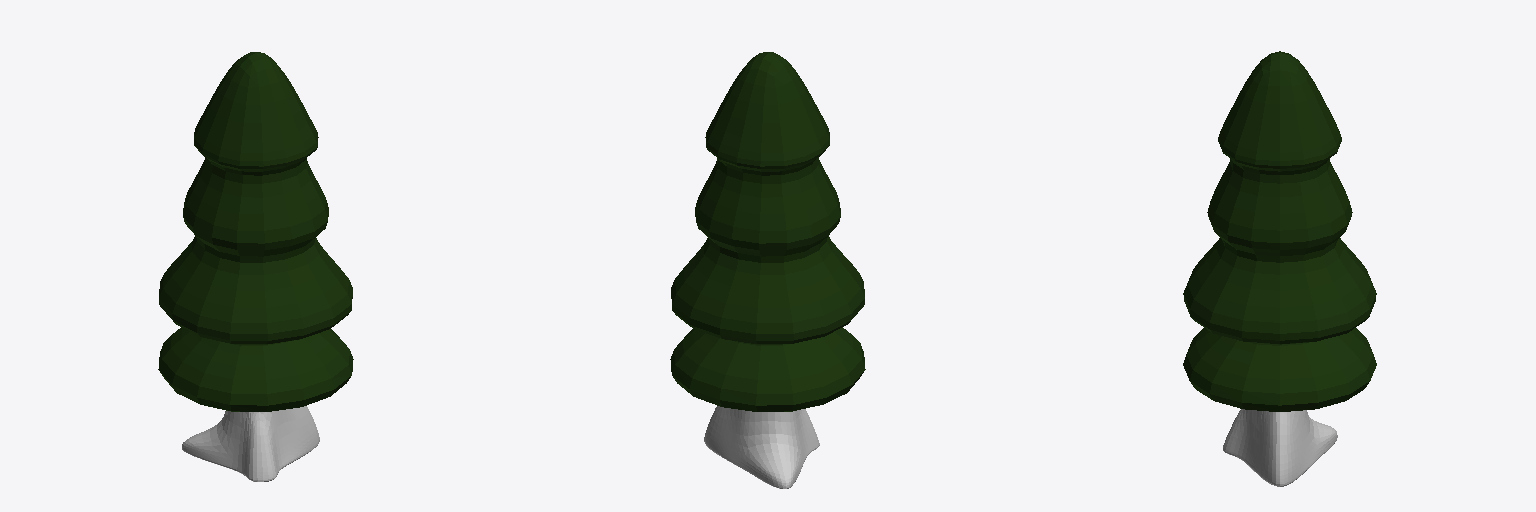
The model's file is Tree.obj.
3 views of the same model, side by side, from view 1: azimuth 30°, elevation 25°; view 2: azimuth 150°, elevation 25°; view 3: azimuth 270°, elevation 25° (orthographic).
Visible parts, largest first — view 1: Tree_Cube; view 2: Tree_Cube; view 3: Tree_Cube.
Boxes of the visible parts, box(x1,y1,x2,y2) form: Tree_Cube: box(158, 52, 353, 481); Tree_Cube: box(670, 52, 865, 488); Tree_Cube: box(1183, 51, 1376, 486).
Size of the model in its own units: 6.16 by 14.2 by 6.16.